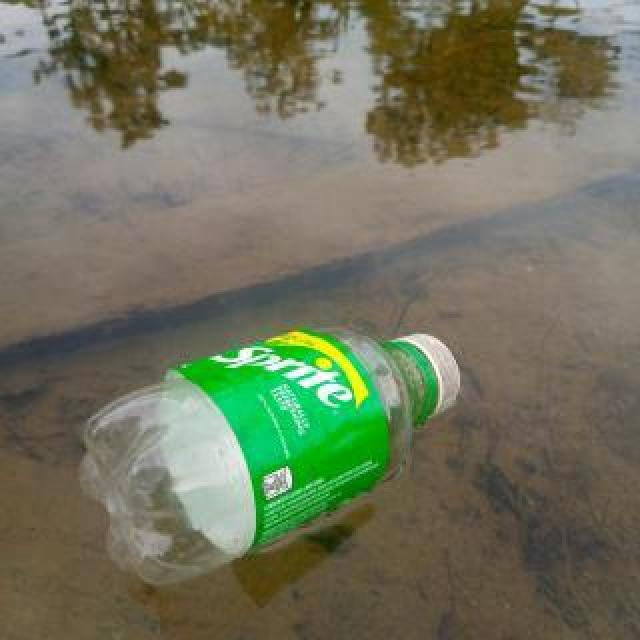bottle: (75, 324, 463, 590)
